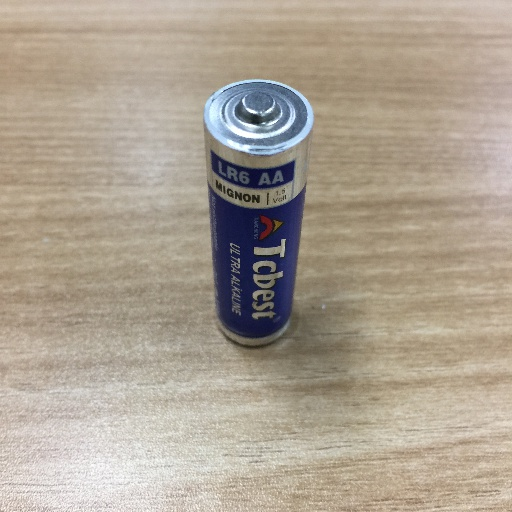Battery_0: (193, 66, 319, 363)
